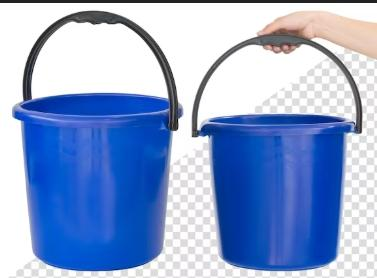SEAU: (15, 0, 377, 278)
